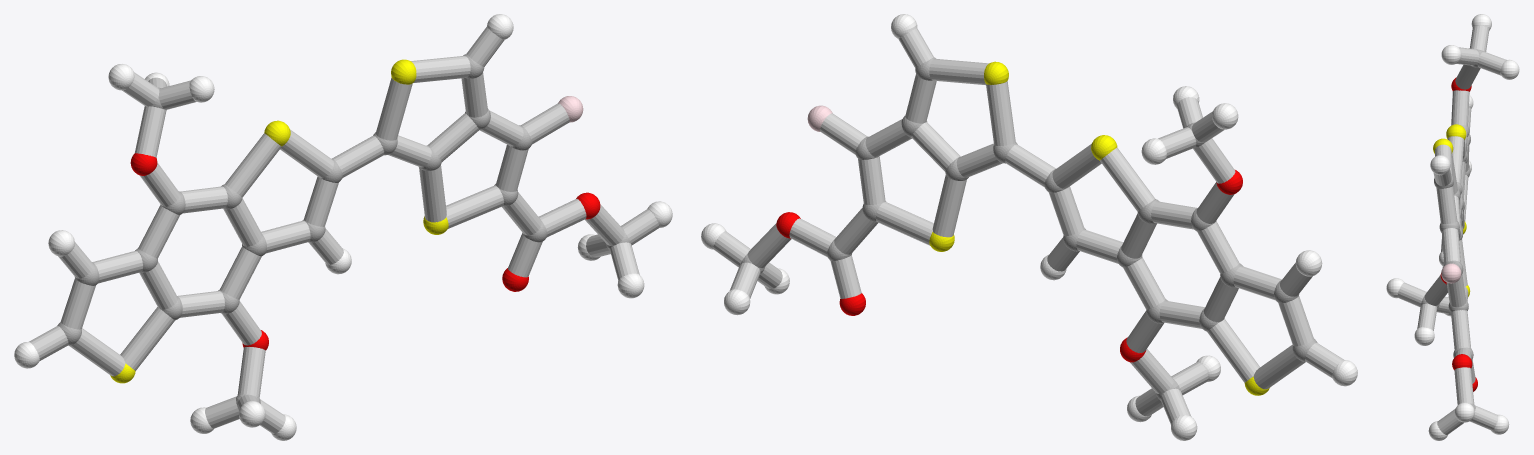
Rendered from color.glb.
3 renders of one model, left to right at view 1: azimuth 30°, elevation 25°; view 2: azimuth 150°, elevation 25°; view 3: azimuth 270°, elevation 25°, orthographic. The views are drawn at different scales.
Visible parts, largest first — view 1: grp15205, grp8689, grp1, grp7241, grp13395; view 2: grp15205, grp8689, grp1, grp7241, grp13395; view 3: grp15205, grp8689, grp1, grp7241, grp13395, grp14843.
Boxes of the visible parts, x1=… form: grp15205: x1=29, y1=27, x2=659, y2=433; grp8689: x1=14, y1=14, x2=672, y2=440; grp1: x1=57, y1=54, x2=630, y2=404; grp7241: x1=110, y1=59, x2=448, y2=383; grp13395: x1=130, y1=153, x2=600, y2=350; grp15205: x1=713, y1=28, x2=1343, y2=424; grp8689: x1=701, y1=14, x2=1357, y2=440; grp1: x1=741, y1=57, x2=1317, y2=400; grp7241: x1=929, y1=61, x2=1269, y2=395; grp13395: x1=776, y1=170, x2=1242, y2=362; grp15205: x1=1397, y1=25, x2=1506, y2=434; grp8689: x1=1386, y1=14, x2=1519, y2=440; grp1: x1=1421, y1=49, x2=1483, y2=410; grp7241: x1=1433, y1=124, x2=1470, y2=296; grp13395: x1=1440, y1=77, x2=1477, y2=391; grp14843: x1=1441, y1=263, x2=1461, y2=283.
Size of the model in its own units: 16.97 by 9.31 by 3.94.
